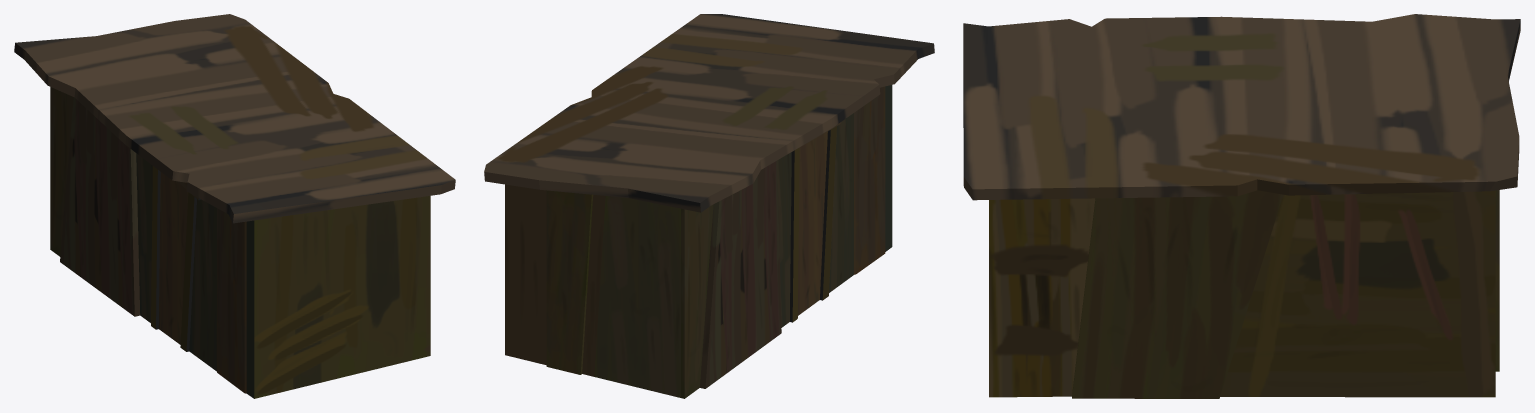
File: drewutnia.fbx
3 renders of one model, left to right at view 1: azimuth 30°, elevation 25°; view 2: azimuth 150°, elevation 25°; view 3: azimuth 270°, elevation 25°, orthographic. The views are drawn at different scales.
Visible parts, largest first — view 1: Cube.001; view 2: Cube.001; view 3: Cube.001.
Boxes of the visible parts, x1,y1,x2,y2 form: Cube.001: (14, 14, 455, 398); Cube.001: (484, 14, 934, 398); Cube.001: (963, 14, 1520, 398).
Size of the model in its own units: 261 by 223 by 440.
